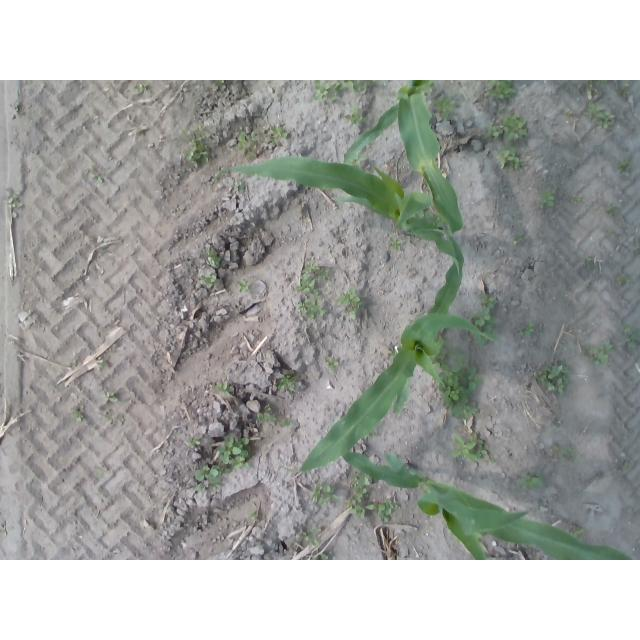Maize: (282, 218, 493, 474), (343, 450, 634, 560), (214, 155, 462, 275), (344, 80, 465, 236)
Weeds: (440, 345, 485, 421), (482, 112, 530, 149), (182, 121, 214, 171), (313, 80, 382, 101), (295, 260, 334, 296), (534, 362, 571, 395), (579, 339, 618, 370), (217, 435, 251, 470), (450, 433, 488, 463), (347, 472, 370, 521), (467, 295, 497, 332), (366, 498, 402, 527), (582, 102, 615, 131), (195, 466, 226, 496), (310, 480, 339, 509), (337, 286, 360, 322), (487, 80, 518, 104), (494, 147, 522, 172), (237, 130, 260, 159), (298, 526, 326, 549), (4, 188, 23, 221), (297, 298, 327, 318), (435, 95, 458, 121), (266, 125, 291, 148), (205, 243, 224, 270), (520, 471, 544, 492), (278, 373, 298, 395), (538, 188, 558, 209), (343, 108, 369, 124), (517, 322, 536, 343), (102, 412, 126, 428), (615, 154, 633, 175), (213, 379, 232, 398), (260, 407, 277, 428), (100, 391, 120, 408), (623, 330, 640, 350), (563, 443, 577, 463), (387, 236, 403, 253), (324, 356, 340, 373), (134, 81, 151, 97), (89, 167, 104, 185), (71, 406, 84, 426), (200, 275, 217, 290), (185, 437, 202, 452), (617, 271, 632, 286), (620, 461, 636, 475), (237, 279, 252, 293), (608, 202, 621, 218), (245, 511, 259, 525), (236, 179, 249, 194), (619, 83, 632, 98), (587, 80, 610, 88), (312, 552, 332, 561), (96, 361, 112, 372), (94, 466, 107, 479), (571, 526, 584, 538), (512, 234, 525, 246), (280, 417, 292, 428), (552, 443, 561, 457), (355, 154, 366, 165), (603, 227, 615, 237), (586, 258, 595, 270), (572, 196, 584, 205), (624, 323, 633, 333), (212, 84, 221, 93), (566, 108, 575, 116), (635, 237, 640, 250), (220, 80, 228, 84)
